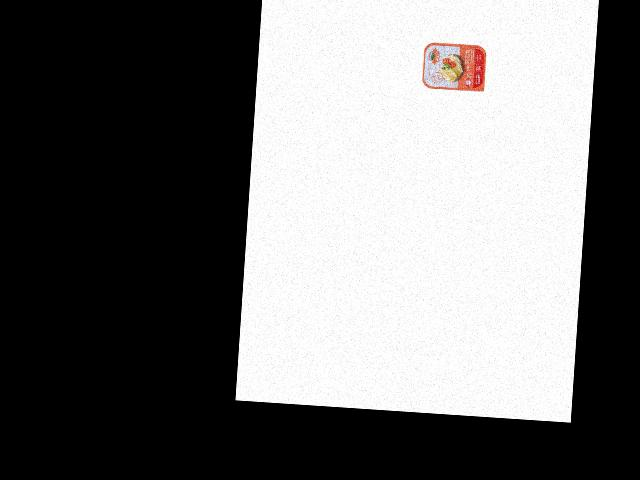cheese: (420, 38, 491, 93)
